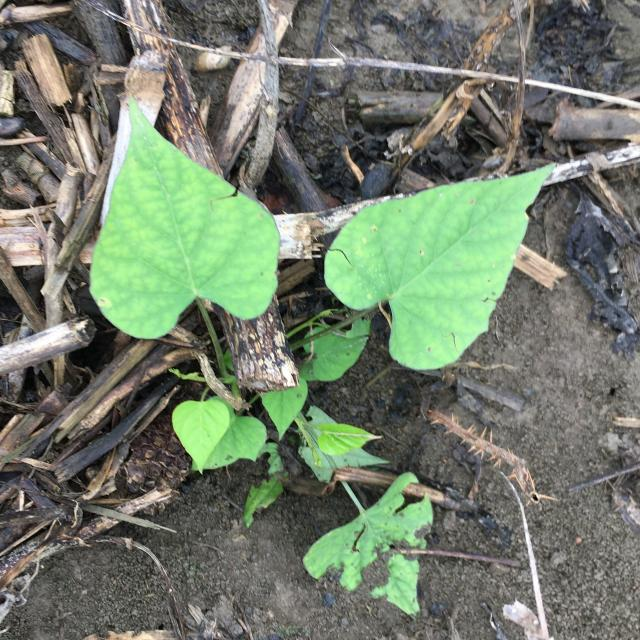MorningGlory: (88, 94, 555, 620)
